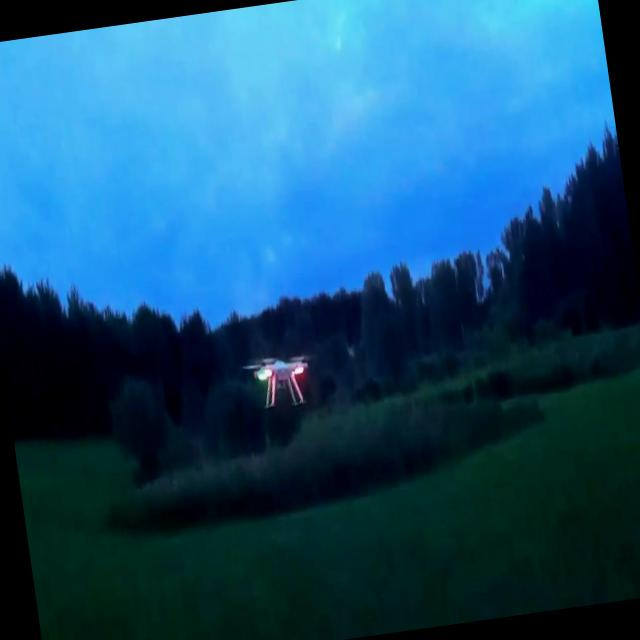drone: (242, 346, 325, 414)
